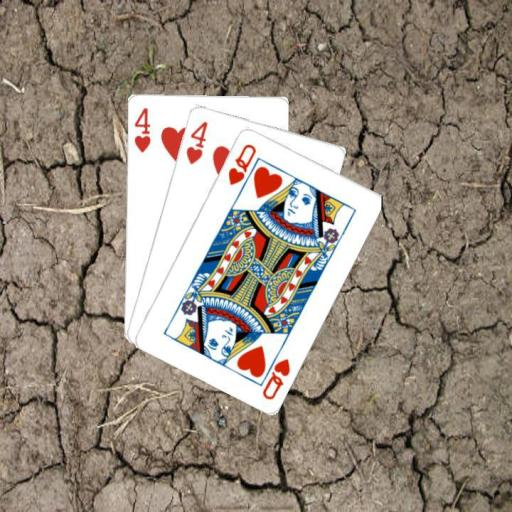4H: (182, 117, 209, 166), (130, 105, 152, 154)
QH: (255, 344, 292, 401), (225, 140, 257, 186)
